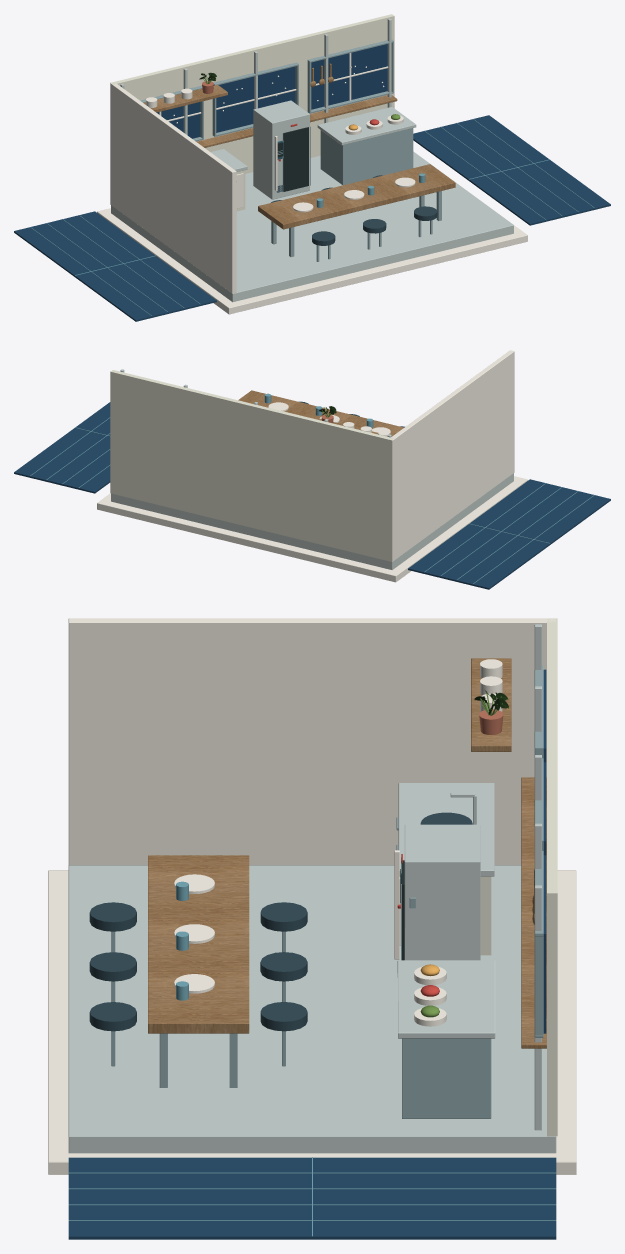
File: interior-station.glb
3 renders of one model, top to bottom at view 1: azimuth 30°, elevation 25°; view 2: azimuth 150°, elevation 25°; view 3: azimuth 270°, elevation 25°, orthographic. The views are drawn at different scales.
Parts seen in each view (by area): view 1: room__silver, room__white, room__solar, room__chalk, room__steel, room__navy, room__wood, room__glass, room__black, room__dark; view 2: room__chalk, room__white, room__solar, room__silver, room__wood, room__glass; view 3: room__white, room__silver, room__solar, room__wood, room__steel, room__dark, room__chalk, room__glass, room__navy.
Boxes of the visible parts, x1,y1,x2,y2 form: room__silver: (111,18,513,302); room__white: (97,53,527,314); room__solar: (14,115,610,321); room__chalk: (110,14,394,211); room__steel: (140,39,441,261); room__navy: (157,44,387,138); room__wood: (143,63,455,229); room__glass: (30,119,594,316); room__black: (277,127,308,191); room__dark: (271,175,437,245); room__chalk: (110,370,394,561); room__white: (97,350,527,582); room__solar: (14,402,610,589); room__silver: (111,369,513,569); room__wood: (238,390,403,436); room__glass: (30,393,594,583); room__white: (48,618,576,1174); room__silver: (68,624,556,1153); room__solar: (68,1157,556,1239); room__wood: (148,658,546,1048); room__steel: (111,665,543,1118); room__dark: (89,812,472,1031); room__chalk: (480,618,557,1136); room__glass: (68,881,556,1236); room__navy: (543,669,546,1033).
Size of the model in its own units: 13.5 by 3.77 by 6.5.
17 materials, 2 textured.
